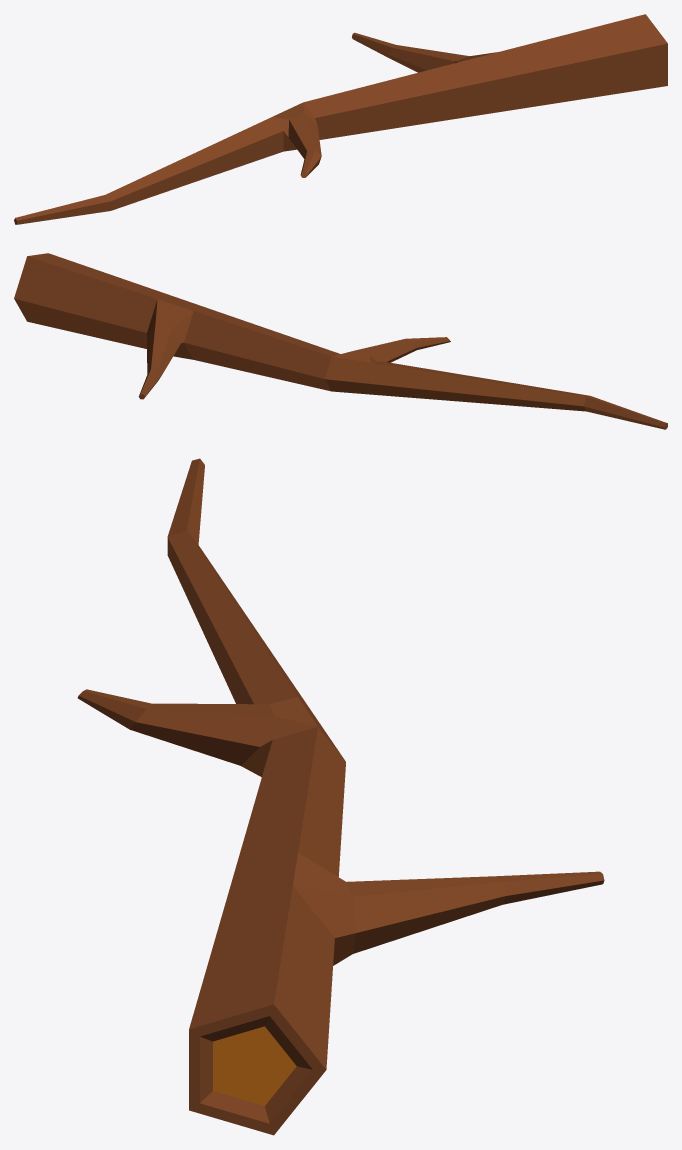
File: branch_1.fbx
The picture shows the model from 3 angles, top to bottom: view 1: azimuth 30°, elevation 25°; view 2: azimuth 150°, elevation 25°; view 3: azimuth 270°, elevation 25°; orthographic projection. The views are drawn at different scales.
Visible parts, largest first — view 1: BigBranch2; view 2: BigBranch2; view 3: BigBranch2.
Boxes of the visible parts, x1,y1,x2,y2 form: BigBranch2: [14, 14, 667, 224]; BigBranch2: [14, 253, 667, 429]; BigBranch2: [77, 458, 604, 1135].
Size of the model in its own units: 219 by 22.14 by 80.69.
